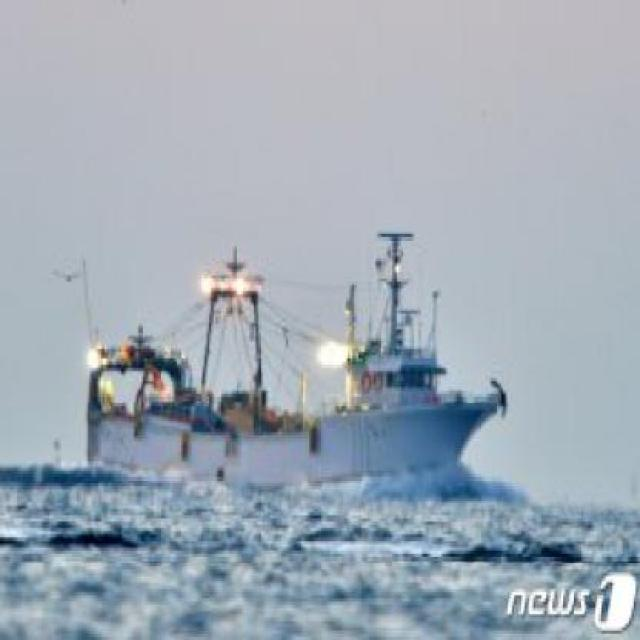fish-b: (65, 203, 512, 510)
